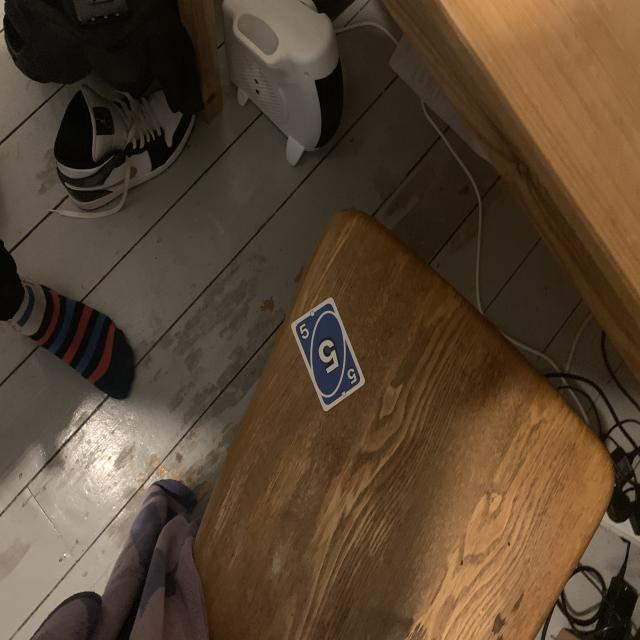lblue-5: (297, 321, 311, 344)
